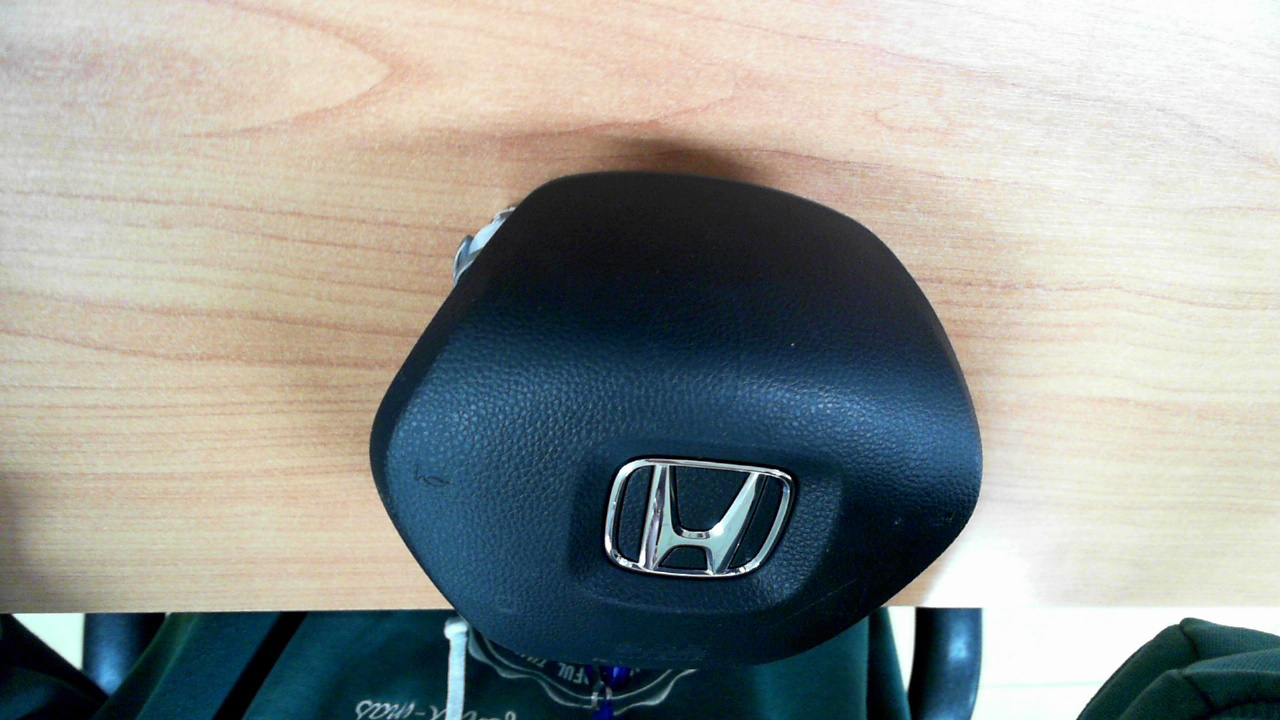Airbag: (368, 168, 984, 671)
Honda: (604, 455, 795, 582)
